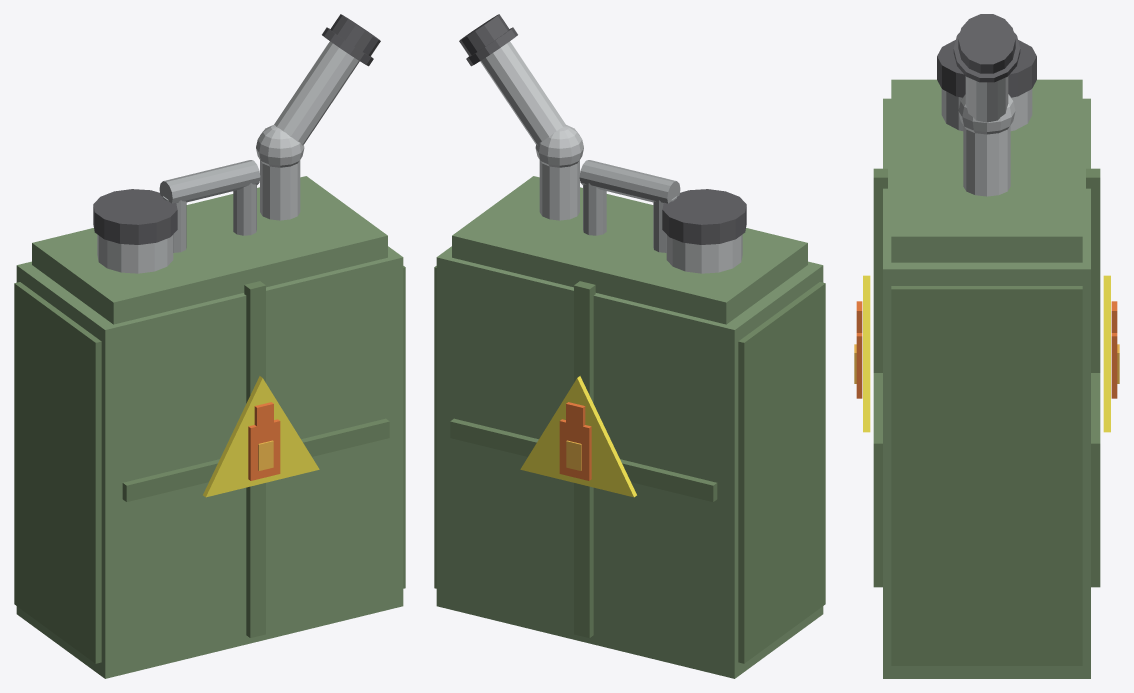
Rendered from gas-can.glb.
3 views of the same model, side by side, from view 1: azimuth 30°, elevation 25°; view 2: azimuth 150°, elevation 25°; view 3: azimuth 270°, elevation 25° (orthographic). The views are drawn at different scales.
Visible parts, largest first — view 1: GasCan; view 2: GasCan; view 3: GasCan.
Part boxes in pixels (x1,y1,x2,y2): GasCan: (14, 14, 405, 678); GasCan: (434, 14, 825, 678); GasCan: (854, 14, 1119, 678).
Bounding box in the file's own units: 0.3665 × 0.6096 × 0.2229.
